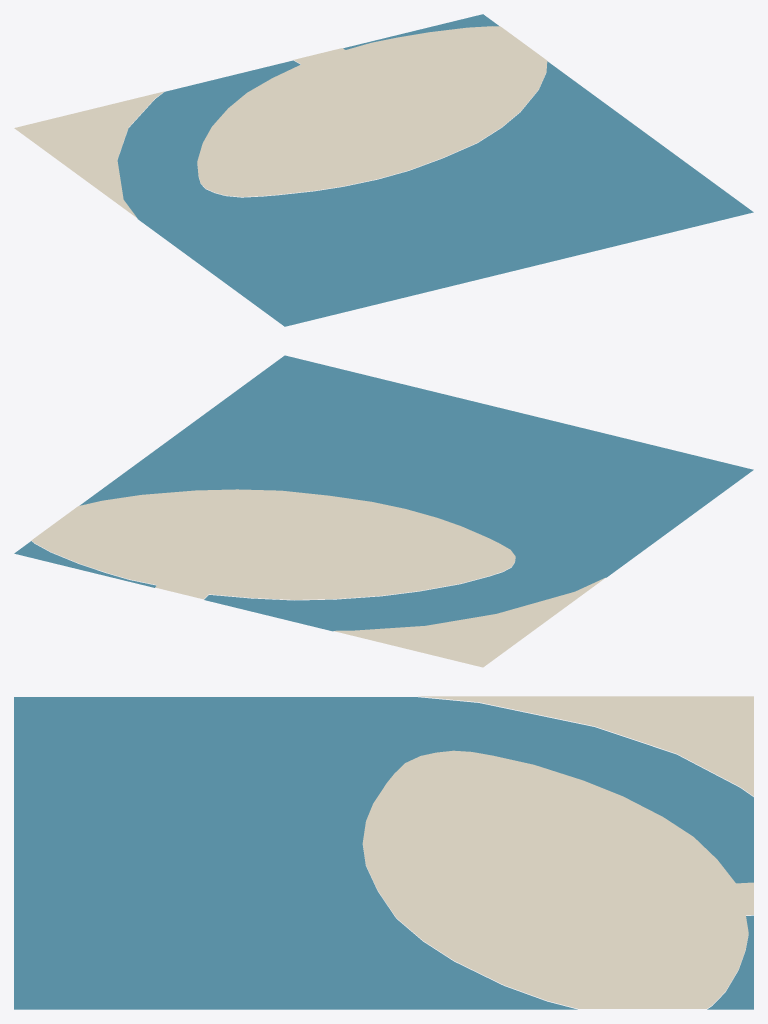
File: nature_3_4.glb
3 views of the same model, one above another, from view 1: azimuth 30°, elevation 25°; view 2: azimuth 150°, elevation 25°; view 3: azimuth 270°, elevation 25° (orthographic). The views are drawn at different scales.
Parts seen in each view (by area): view 1: water, ground; view 2: water, ground; view 3: water, ground.
Boxes of the visible parts, x1,y1,x2,y2 form: water: (117,14,753,326); ground: (14,26,547,218); water: (14,355,753,631); ground: (31,489,605,667); water: (14,697,753,1009); ground: (362,696,753,1008).
Size of the model in its own units: 250 by 0.25 by 250.
